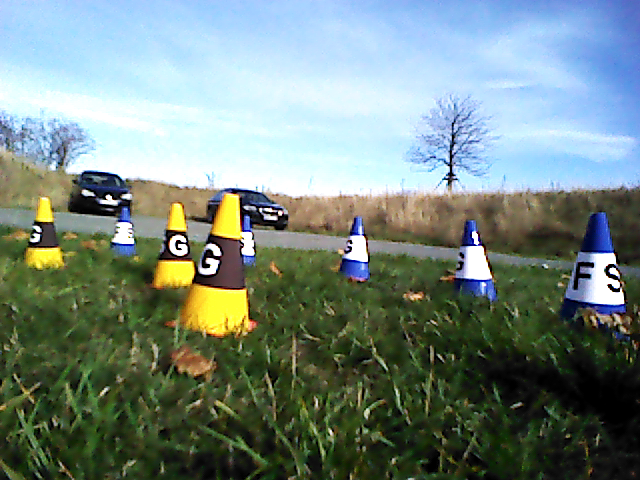bluecone: (562, 214, 628, 333), (456, 220, 494, 296), (338, 218, 370, 276), (110, 206, 136, 256), (242, 216, 257, 266)
yellowcone: (180, 195, 251, 328), (155, 203, 196, 285), (25, 198, 62, 266)
